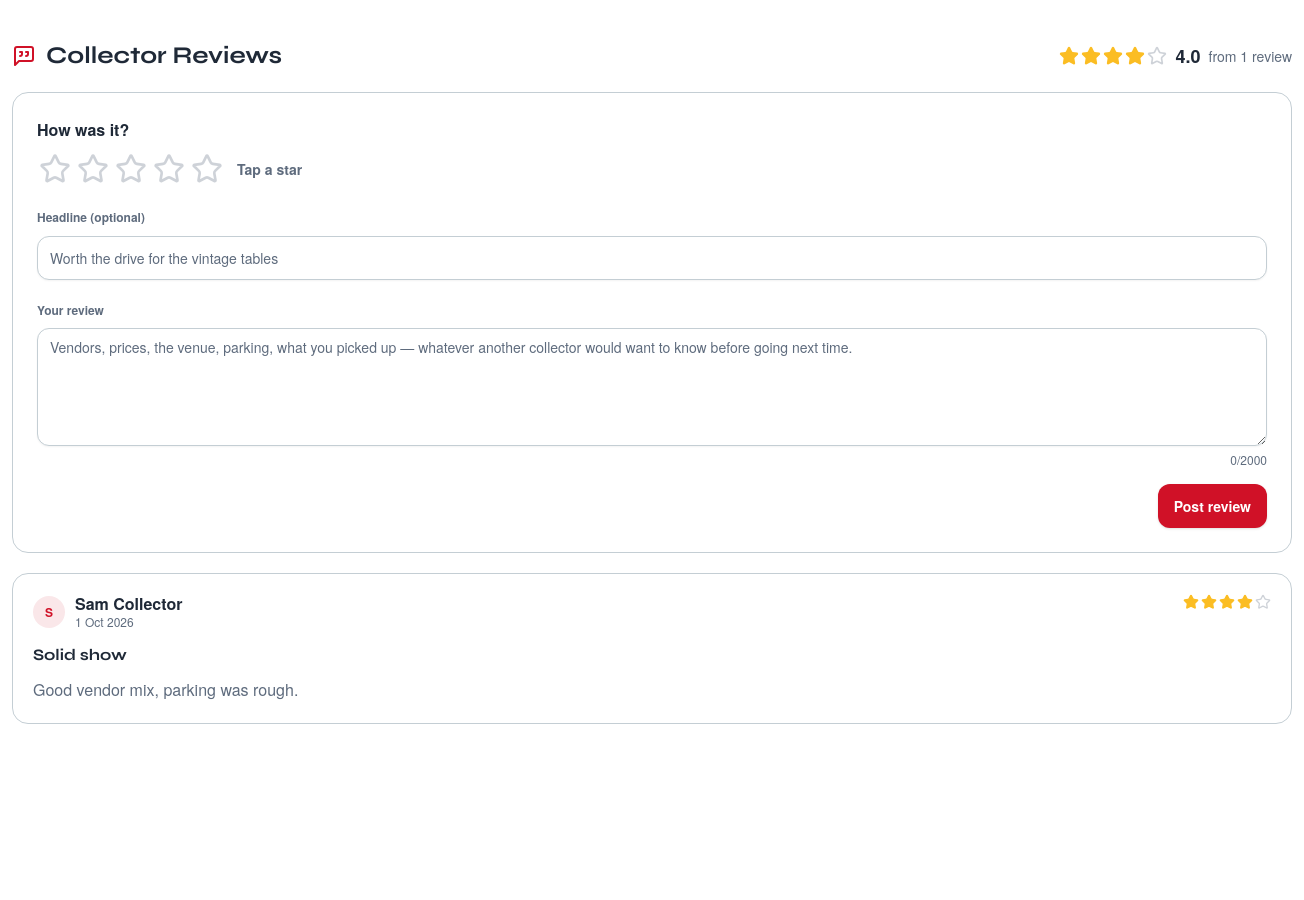
Test: EventAttendeeReviews › lets a signed-in collector post one review, with the stars and words validated first
Expected: the text "Good vendor mix, parking was rough." is shown, [33,678,298,701]
Click the button "Post review". click: (1212, 506)
box: [1158,484,1267,528]
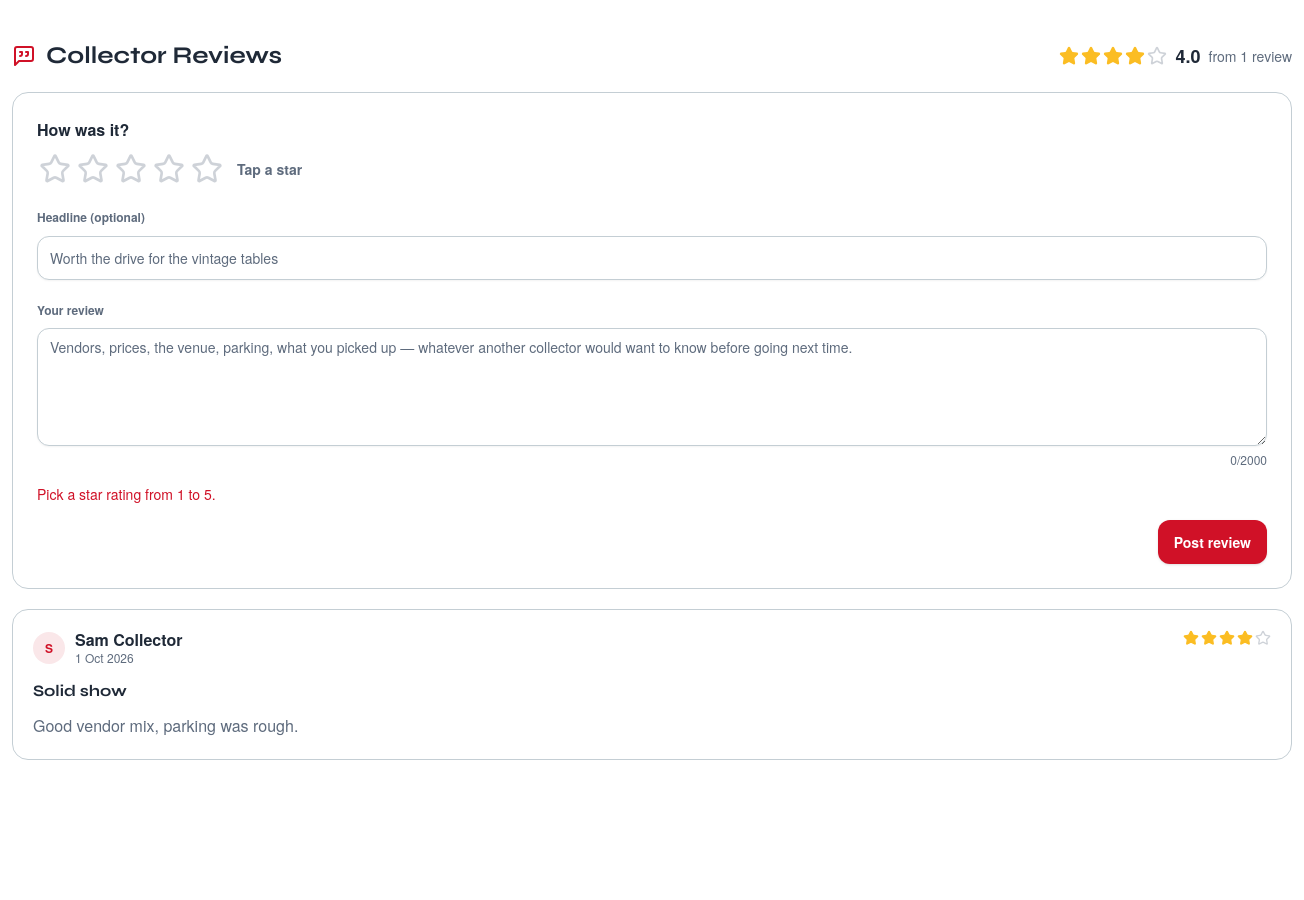
Now the message shows "star rating", box [37,484,216,504]
Click the radio button named "5 stars". click: (207, 169)
box: [189,151,225,187]
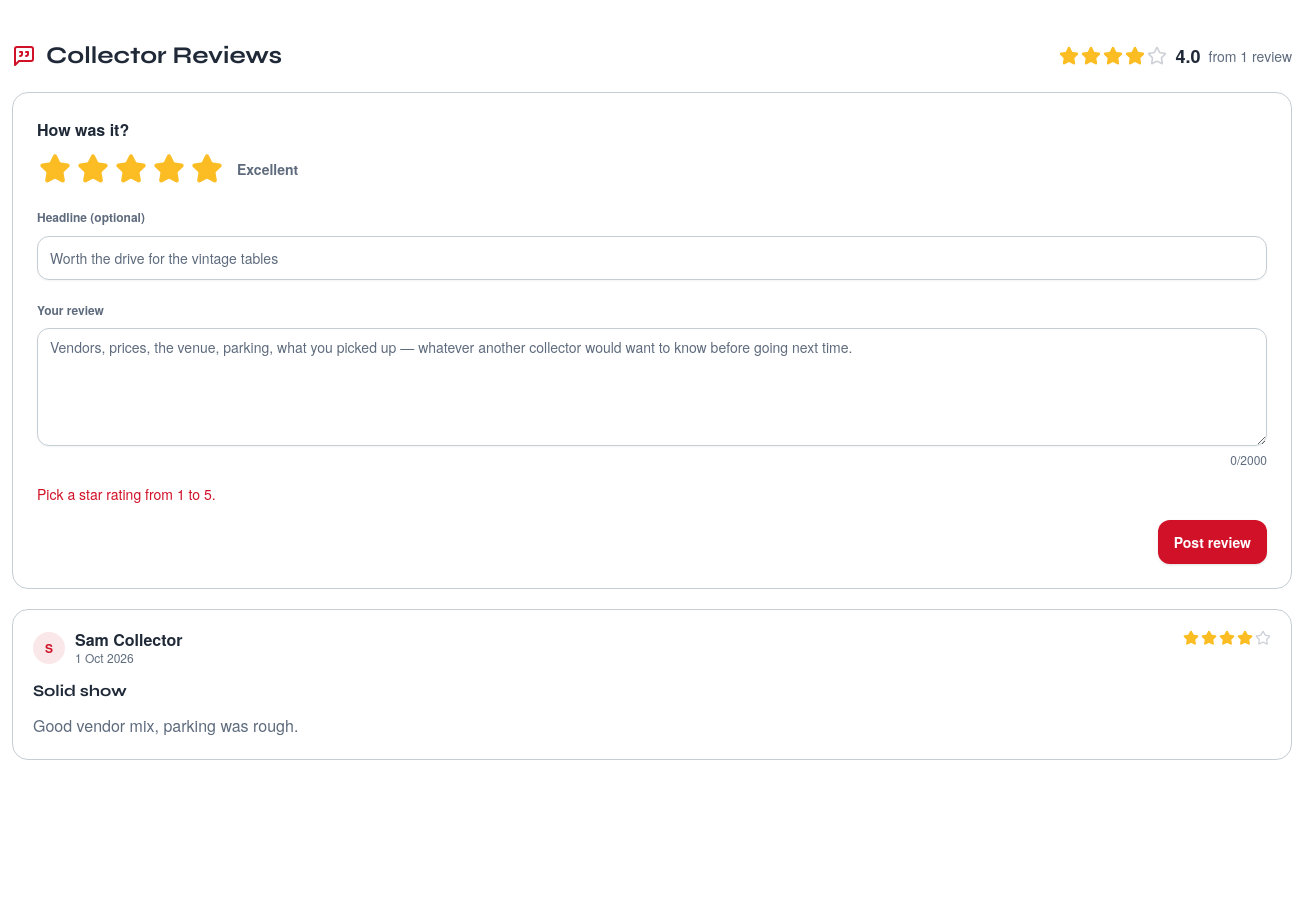
Replace the text in the text box labelled "Your review" with "Best show of the year by a mile.". click: (652, 387)
box: [37,328,1267,446]
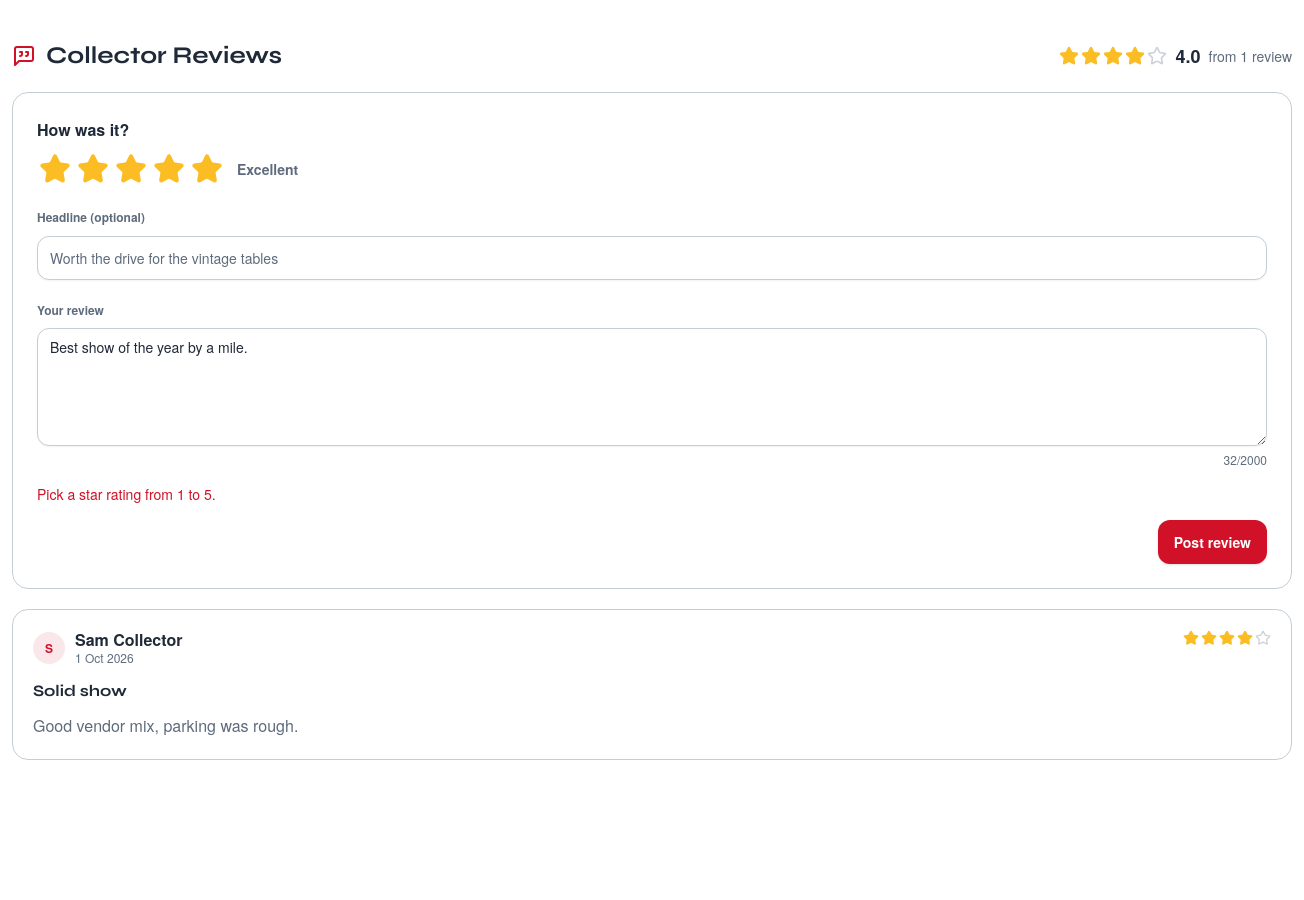
Click the button "Post review". click: (1212, 542)
box: [1158,520,1267,564]
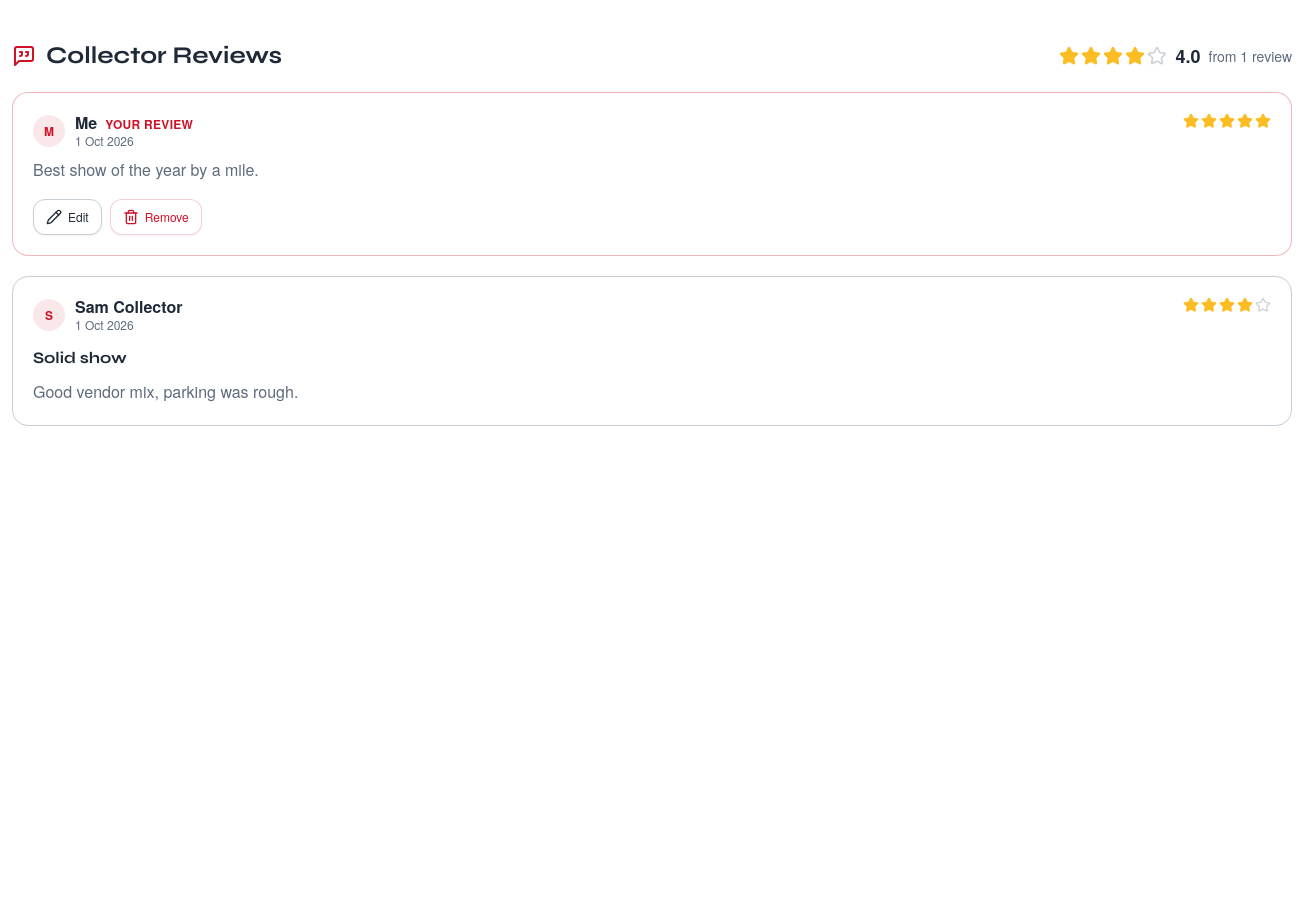
Expected: the text "Your review" is shown, [105,115,193,133]
Now the button "Post review" is gone
Now the button "Edit" is shown, box [33,199,102,235]
